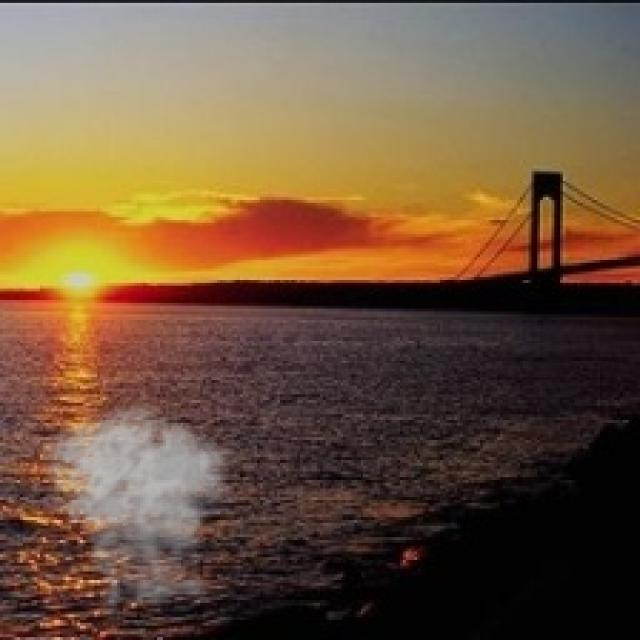smoke: (37, 403, 246, 620)
